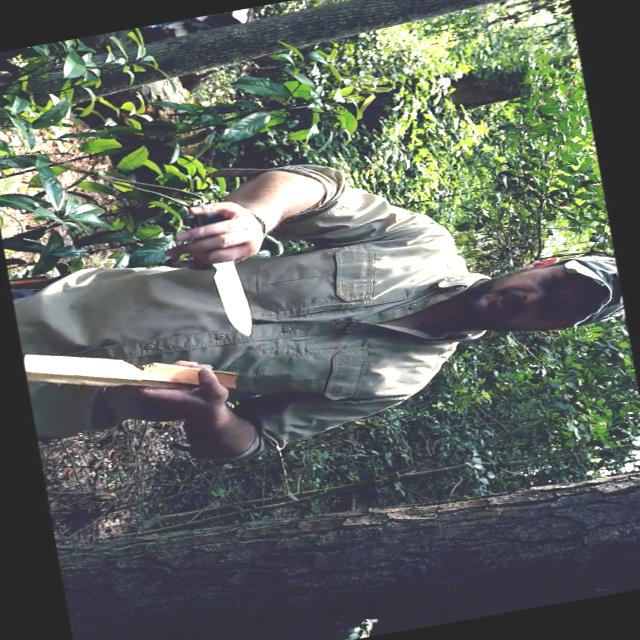knife: (185, 218, 279, 351)
